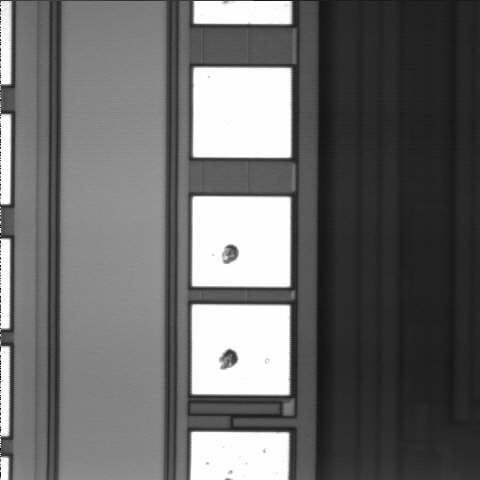pad: (192, 196, 290, 287), (193, 68, 291, 158), (192, 305, 290, 395)
